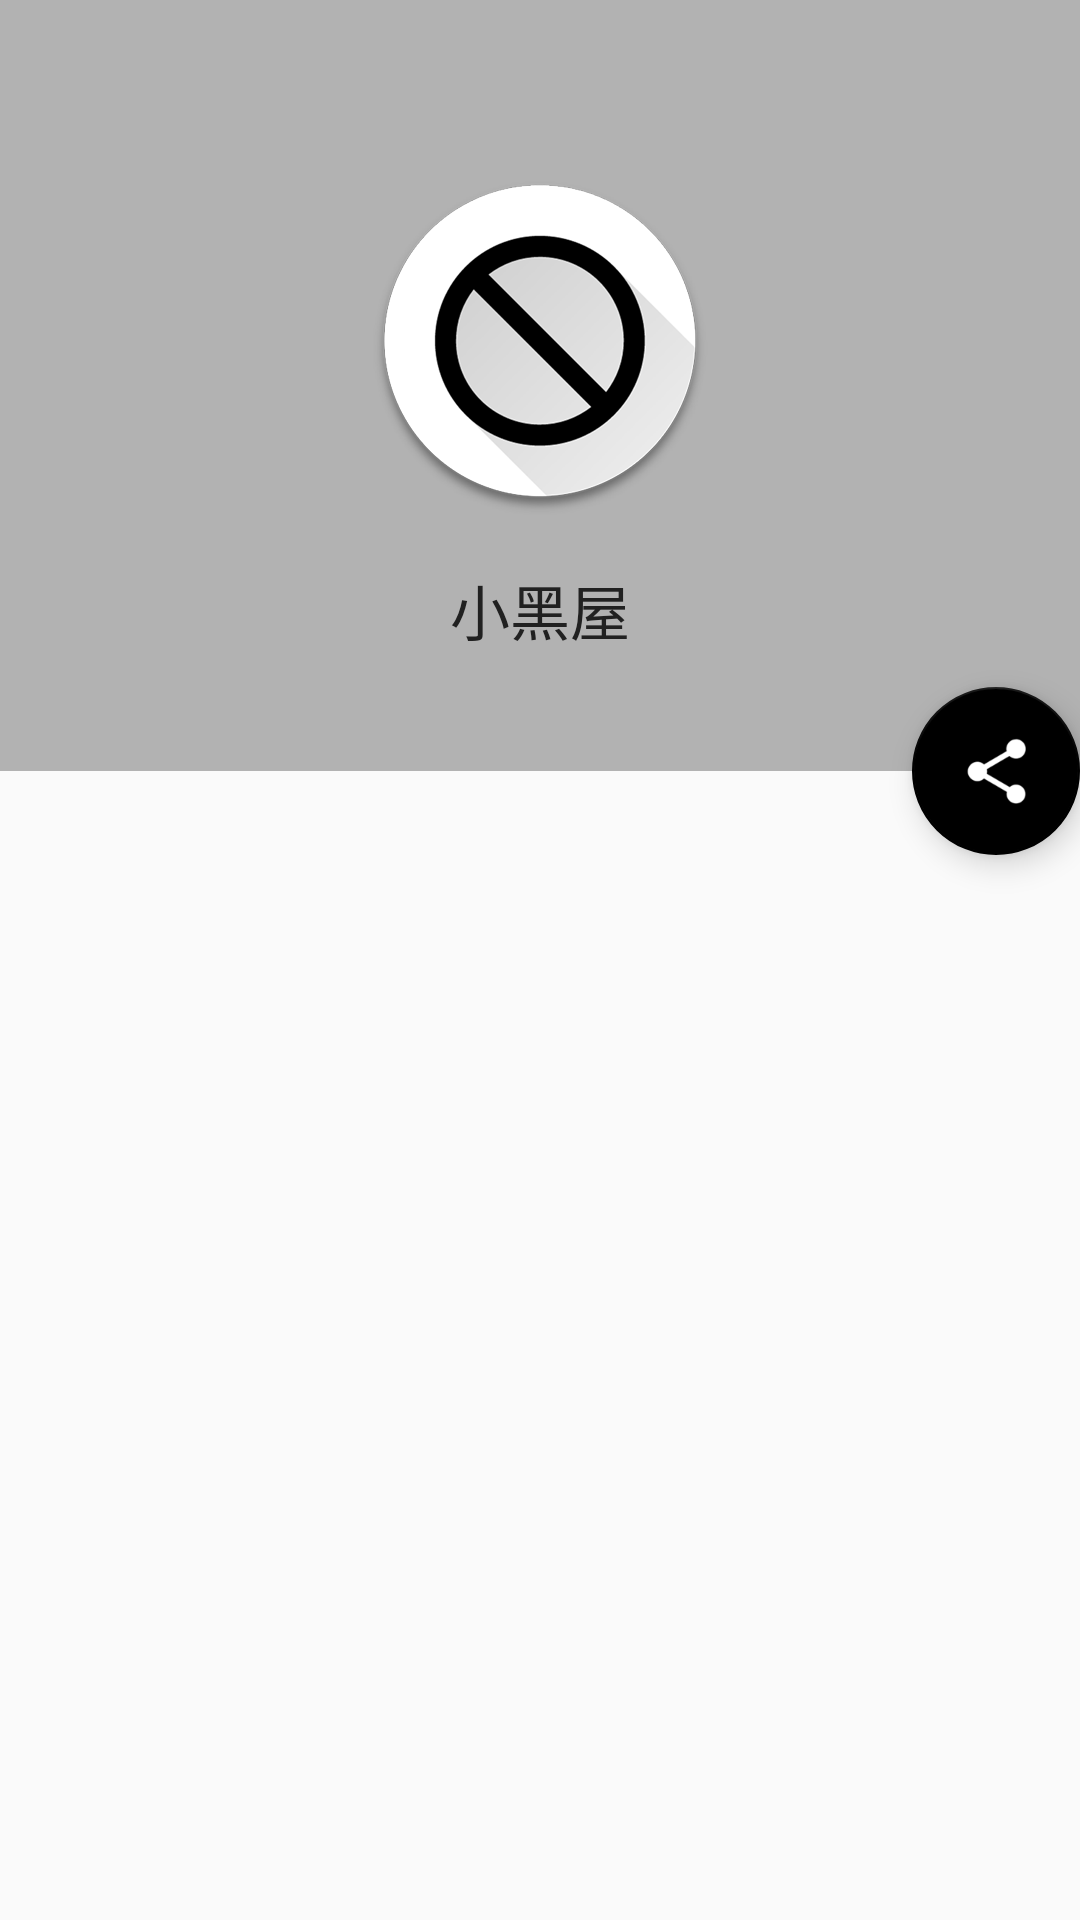

Named icons in this screenshot (1080×1920) and their centers, point (x, y):
fab share: point (996, 771)
